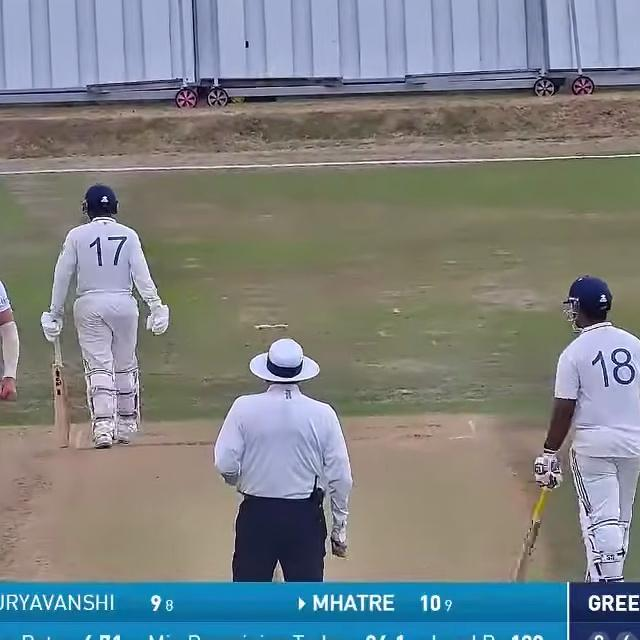umpire: (200, 328, 358, 580)
